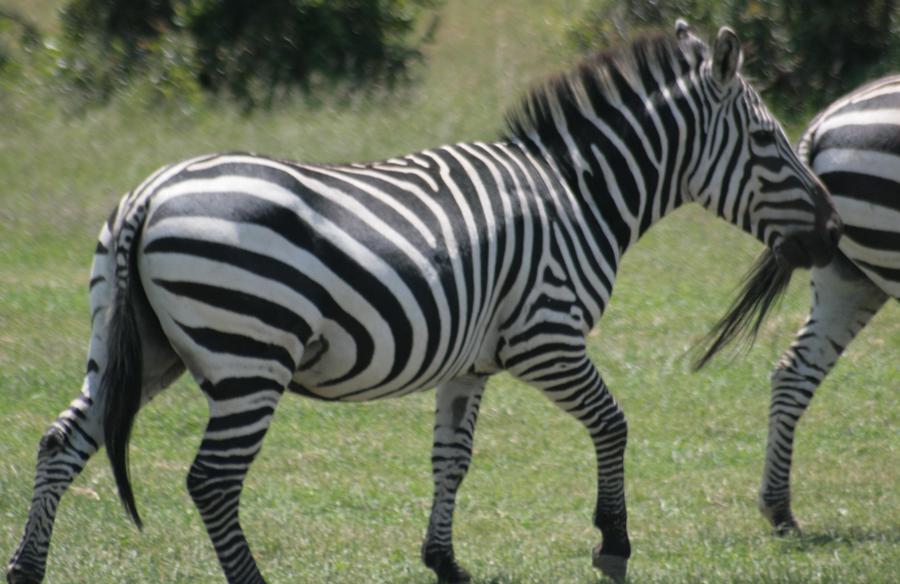zebra_plains: (192, 134, 595, 406)
